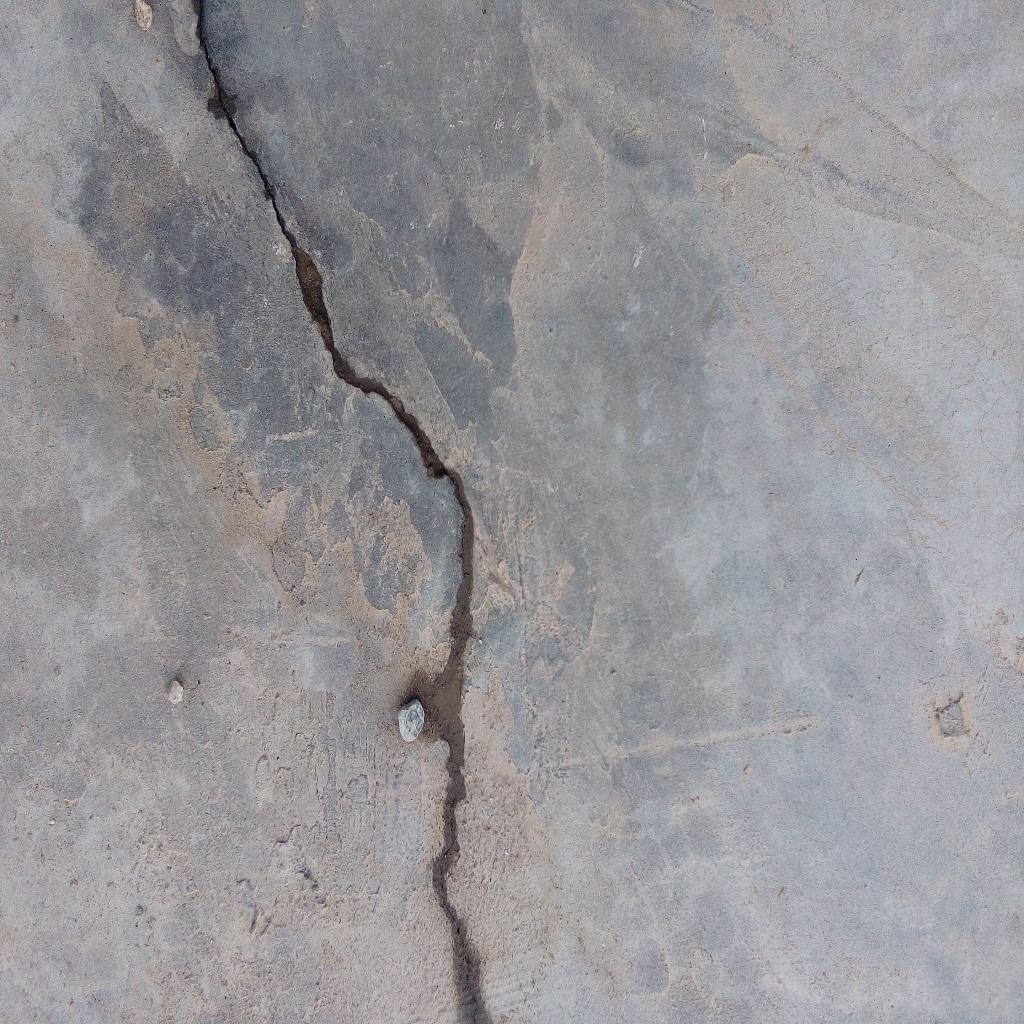Crack: (192, 1, 485, 1024)
